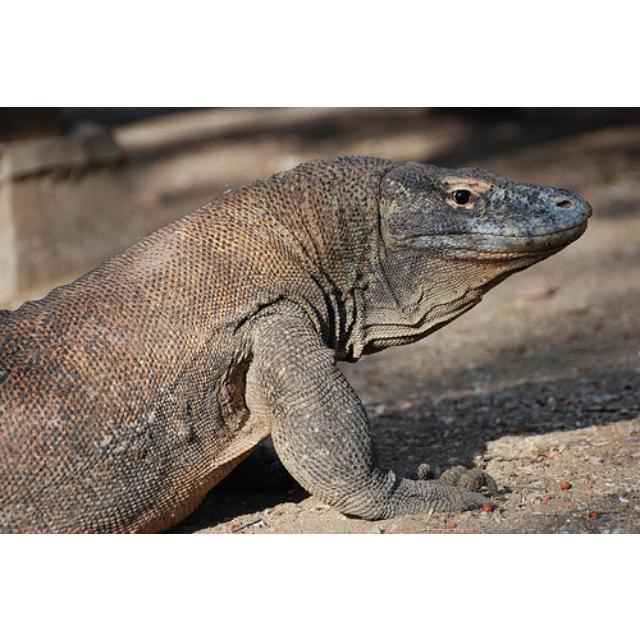KomodoDragon: (0, 153, 590, 531)
